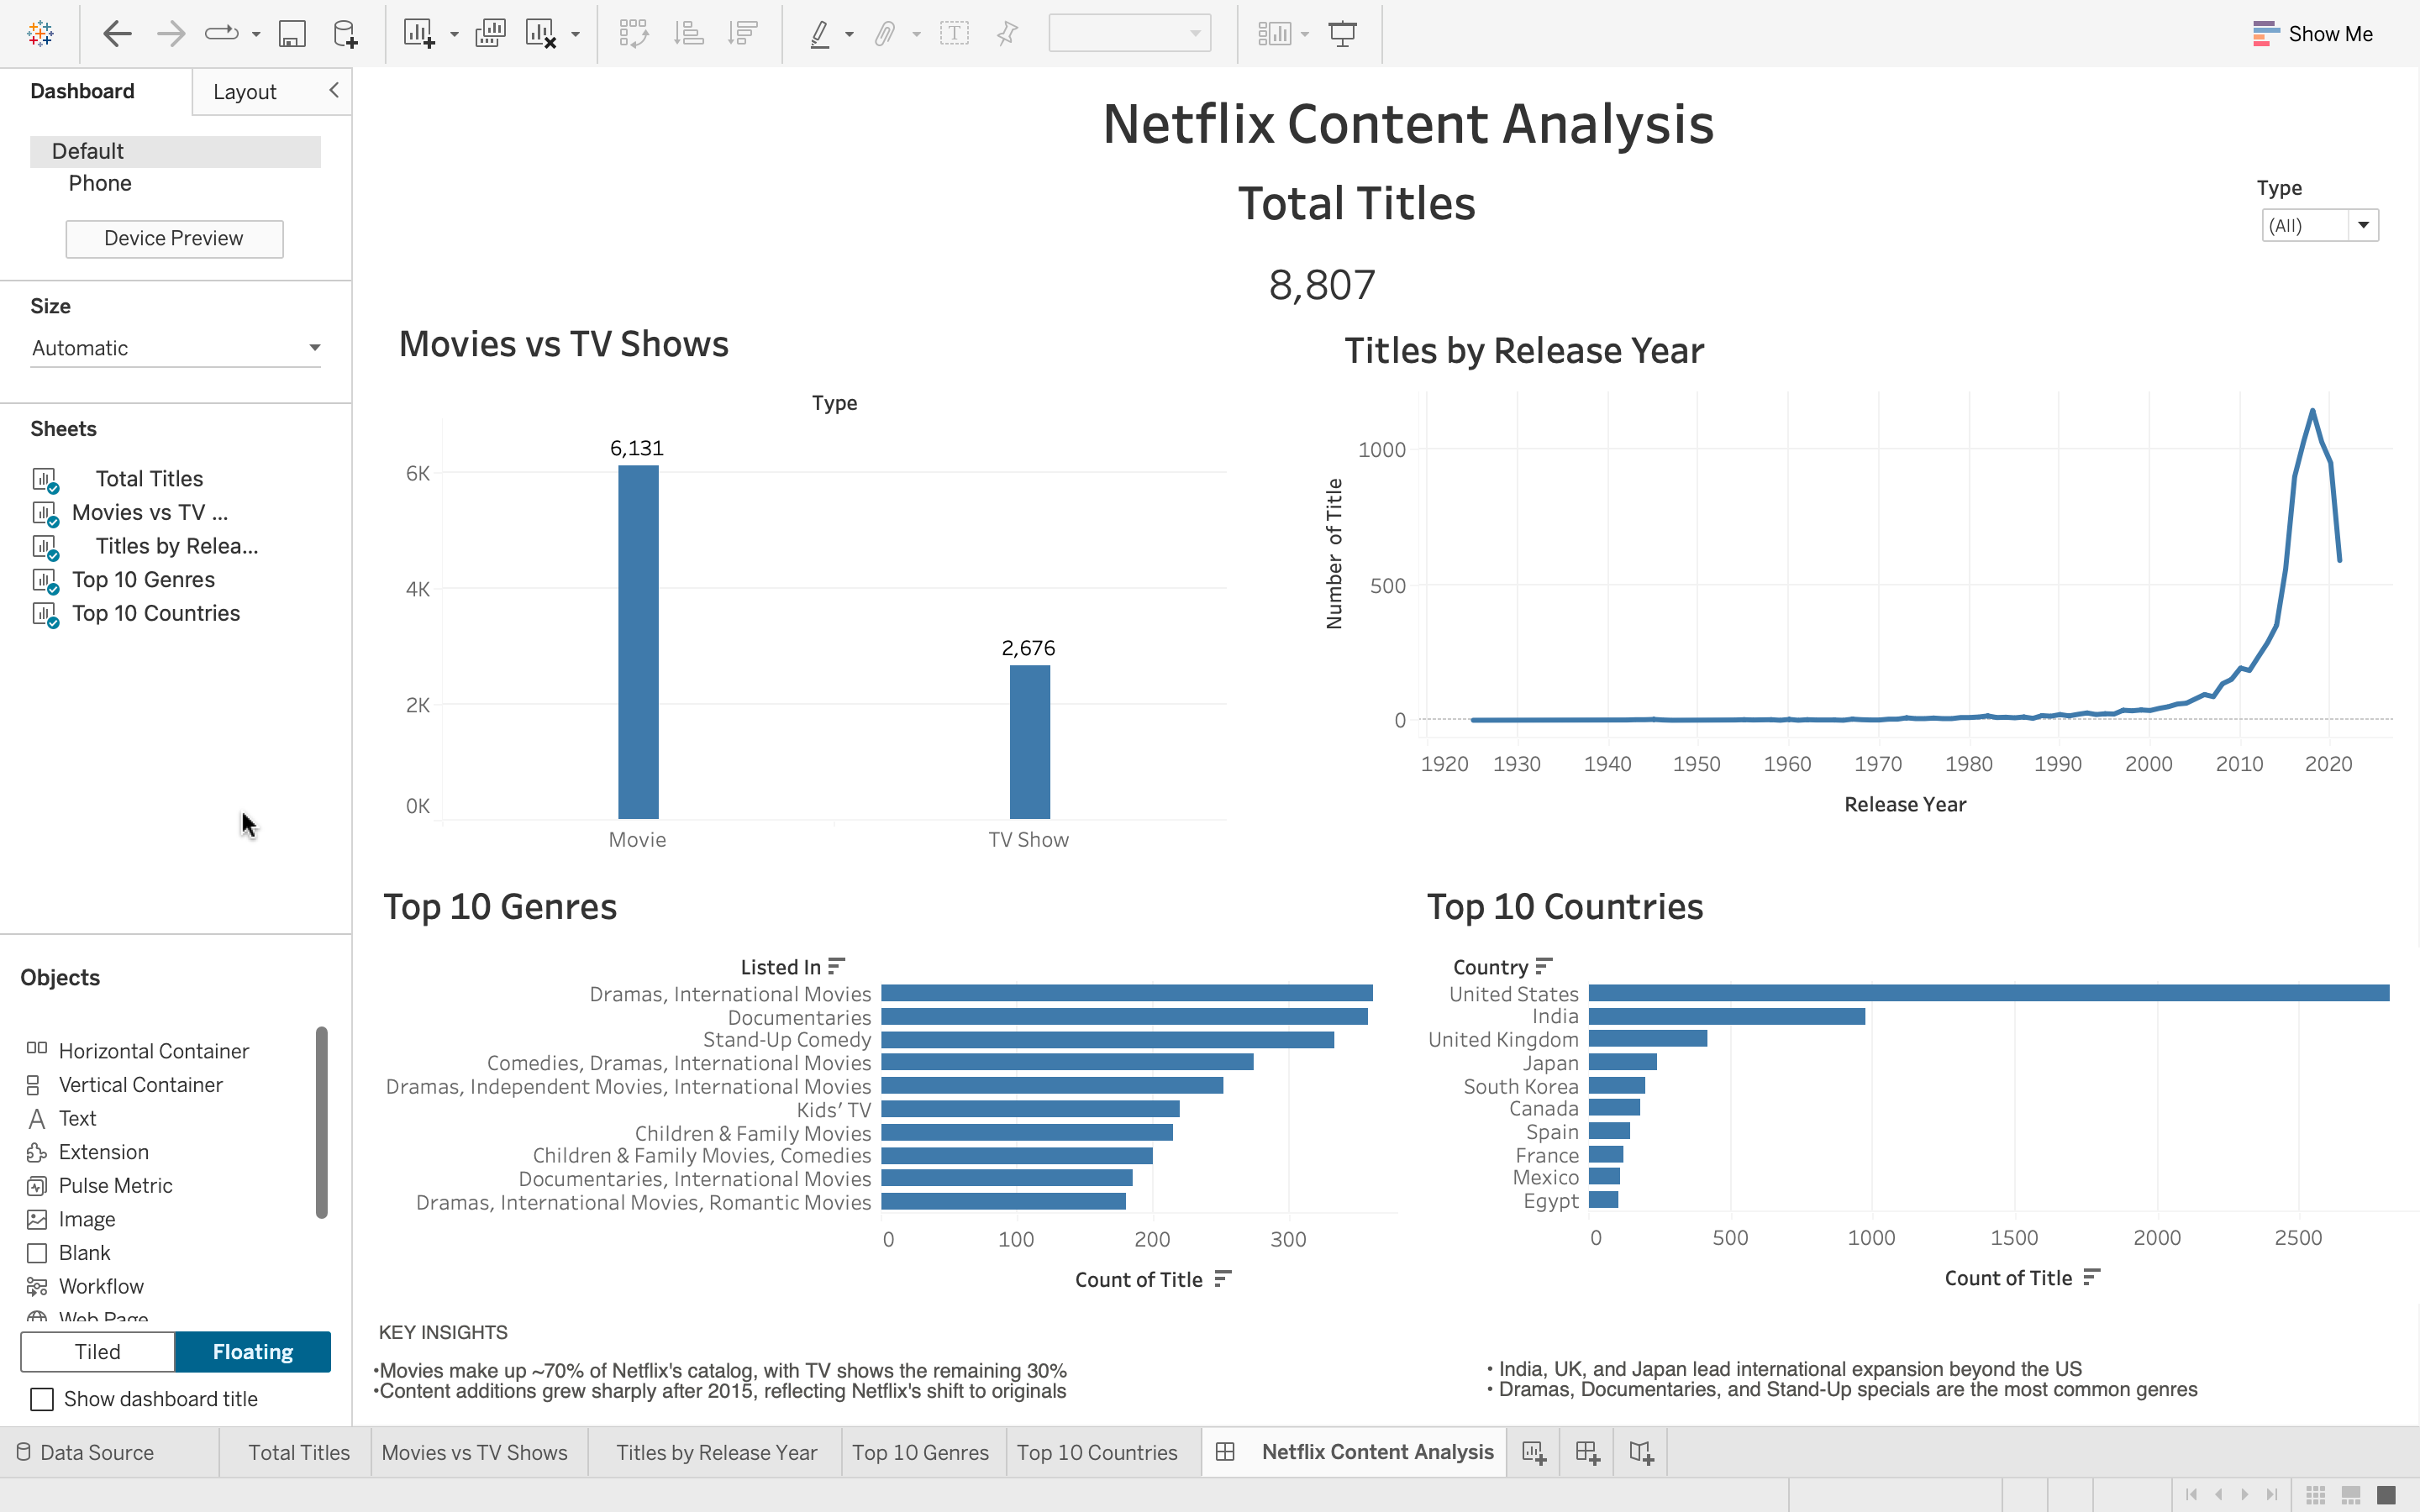

The page's visual inventory and layout, read from the dashboard file:
{"tool":"tableau","page":{"name":"    Netflix Content Analysis","canvas":[1000,1000],"units":"permille","ordinal":0},"visuals":[{"type":"title","box":[6.5,11.7,987,71.6]},{"type":"worksheet","title":"    Total Titles","mark":"Automatic","box":[20.3,70.5,899.9,115.1]},{"type":"filter","title":"Movies vs TV Shows","param":"[federated.1kik33m0lo81gk1ee69ta1mfmnvm].[none:type:nk]","box":[921.9,78,61.8,69.3]},{"type":"worksheet","title":"Movies vs TV Shows","mark":"Automatic","rows":["title"],"cols":["type"],"box":[18.7,179.5,404.4,446.8]},{"type":"worksheet","title":"    Titles by Release Year","mark":"Automatic","rows":["title"],"cols":["release_year"],"box":[462.2,184.4,525.6,377.5]},{"type":"worksheet","title":"Top 10 Genres","mark":"Automatic","rows":["listed_in"],"cols":["title"],"box":[11.4,594.1,494.7,318.1]},{"type":"text","box":[10.6,919.6,106.6,28.5]},{"type":"text","box":[546.8,948,397.9,38.4]},{"type":"text","box":[4.9,950.5,426.4,37.1]}]}

Visuals, with their boxes on the dashboard's canvas, which has no fixed pixel size, in thousandths of its width and height (x1, y1, x2, y2). These are canvas units, not pixel positions in the 2420x1512 screenshot, which may show the page scaled, cropped or inside an application window:
title: <region>6, 12, 994, 83</region>
"    Total Titles" worksheet: <region>20, 70, 920, 186</region>
"Movies vs TV Shows" filter: <region>922, 78, 984, 147</region>
"Movies vs TV Shows" worksheet: <region>19, 180, 423, 626</region>
"    Titles by Release Year" worksheet: <region>462, 184, 988, 562</region>
"Top 10 Genres" worksheet: <region>11, 594, 506, 912</region>
text: <region>11, 920, 117, 948</region>
text: <region>547, 948, 945, 986</region>
text: <region>5, 950, 431, 988</region>
